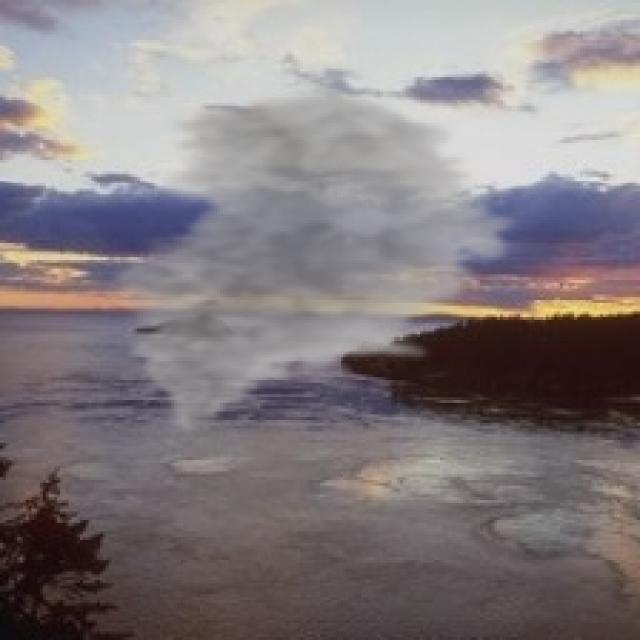smoke: (100, 86, 526, 437)
